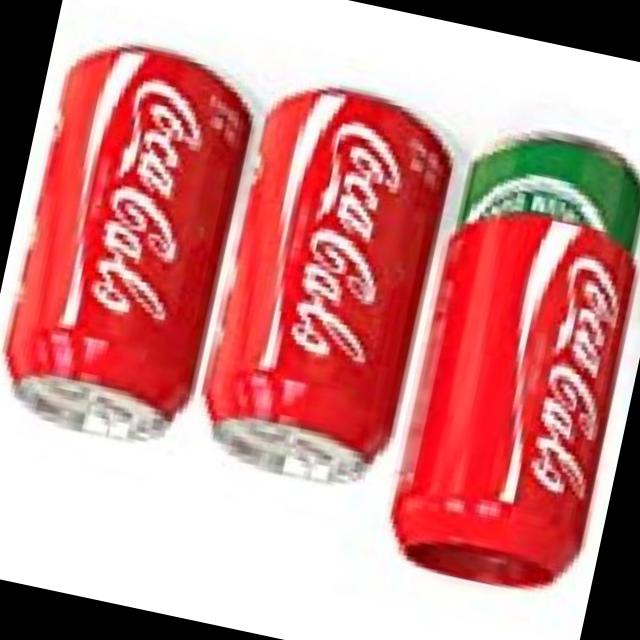metal: (393, 142, 640, 589), (207, 94, 450, 485), (7, 52, 250, 442)
